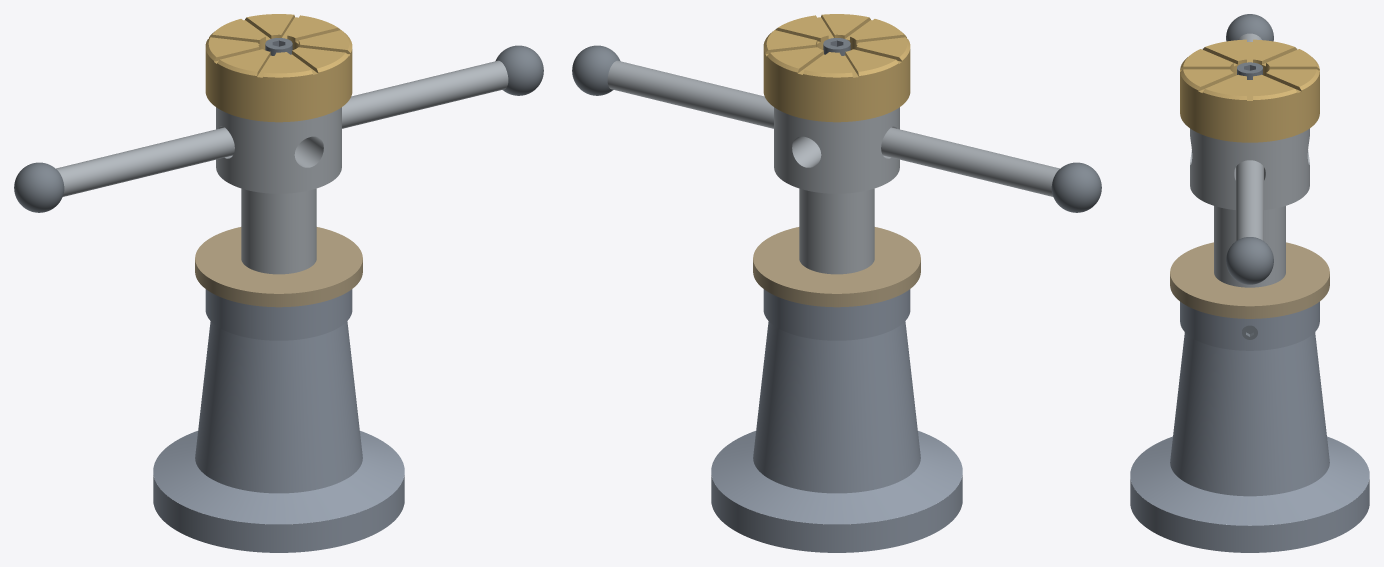
File: screw_jack.glb
3 renders of one model, left to right at view 1: azimuth 30°, elevation 25°; view 2: azimuth 150°, elevation 25°; view 3: azimuth 270°, elevation 25°, orthographic. The views are drawn at different scales.
Visible parts, largest first — view 1: body, screw spindle, load cup, tommy bar, bronze bush, bar end ball 2, bar end ball 1; view 2: body, screw spindle, load cup, tommy bar, bronze bush, bar end ball 2, bar end ball 1; view 3: body, load cup, screw spindle, bronze bush, tommy bar, bar end ball 1, bar end ball 2, cap screw M8 x 25.
Part boxes in pixels (bbox=[...]): body: bbox=[153, 289, 404, 552]; screw spindle: bbox=[216, 107, 341, 274]; load cup: bbox=[205, 14, 352, 122]; tommy bar: bbox=[56, 60, 508, 196]; bronze bush: bbox=[195, 227, 362, 307]; bar end ball 2: bbox=[14, 162, 64, 212]; bar end ball 1: bbox=[495, 45, 543, 95]; body: bbox=[711, 289, 962, 552]; screw spindle: bbox=[774, 107, 899, 274]; load cup: bbox=[763, 14, 910, 122]; tommy bar: bbox=[607, 60, 1059, 196]; bronze bush: bbox=[753, 227, 920, 307]; bar end ball 2: bbox=[1051, 162, 1101, 212]; bar end ball 1: bbox=[572, 45, 620, 95]; body: bbox=[1130, 301, 1369, 552]; load cup: bbox=[1180, 39, 1319, 142]; screw spindle: bbox=[1190, 128, 1309, 287]; bronze bush: bbox=[1170, 242, 1329, 318]; tommy bar: bbox=[1236, 33, 1263, 240]; bar end ball 1: bbox=[1226, 237, 1273, 284]; bar end ball 2: bbox=[1226, 14, 1273, 41]; cap screw M8 x 25: bbox=[1237, 62, 1262, 79].
Size of the model in its own units: 288 by 240 by 120.
